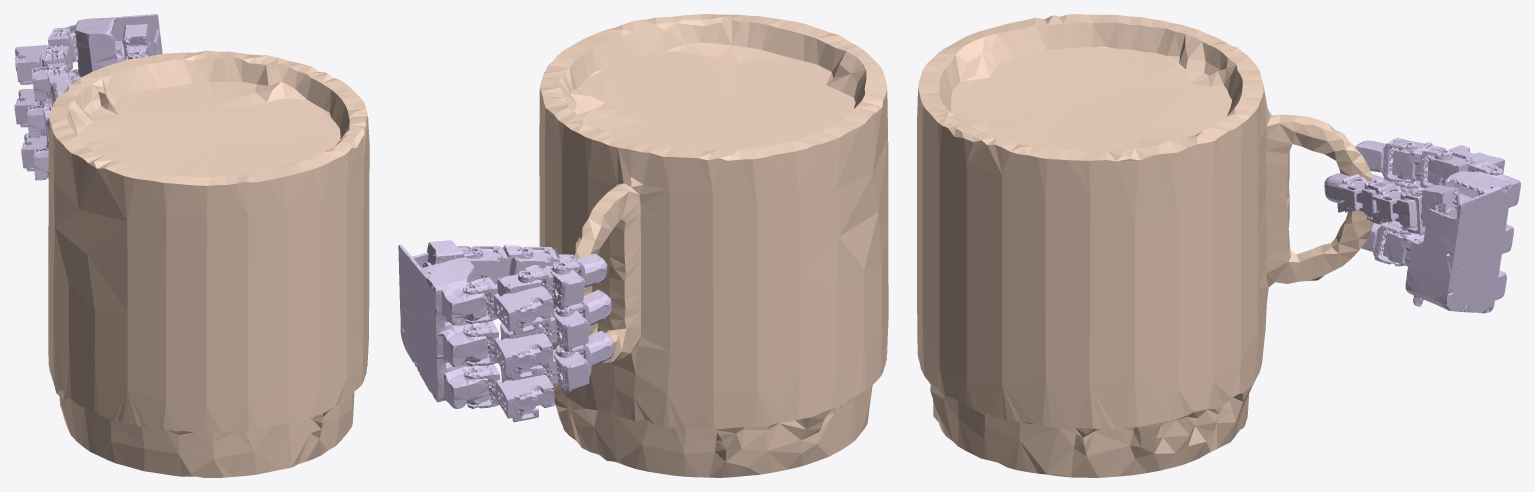
The model's file is cffe311aa49e9c-closed.glb.
3 renders of one model, left to right at view 1: azimuth 30°, elevation 25°; view 2: azimuth 150°, elevation 25°; view 3: azimuth 270°, elevation 25°, orthographic. The views are drawn at different scales.
Parts seen in each view (by area): view 1: world, LEAP_hand; view 2: world, LEAP_hand; view 3: world, LEAP_hand.
Part boxes in pixels (x1,y1,x2,y2): world: [48, 50, 369, 477]; LEAP_hand: [14, 14, 162, 180]; world: [539, 14, 888, 477]; LEAP_hand: [398, 240, 614, 422]; world: [917, 14, 1373, 477]; LEAP_hand: [1324, 137, 1520, 313].
Bounding box in the file's own units: 0.3118 × 0.323 × 0.5402.
